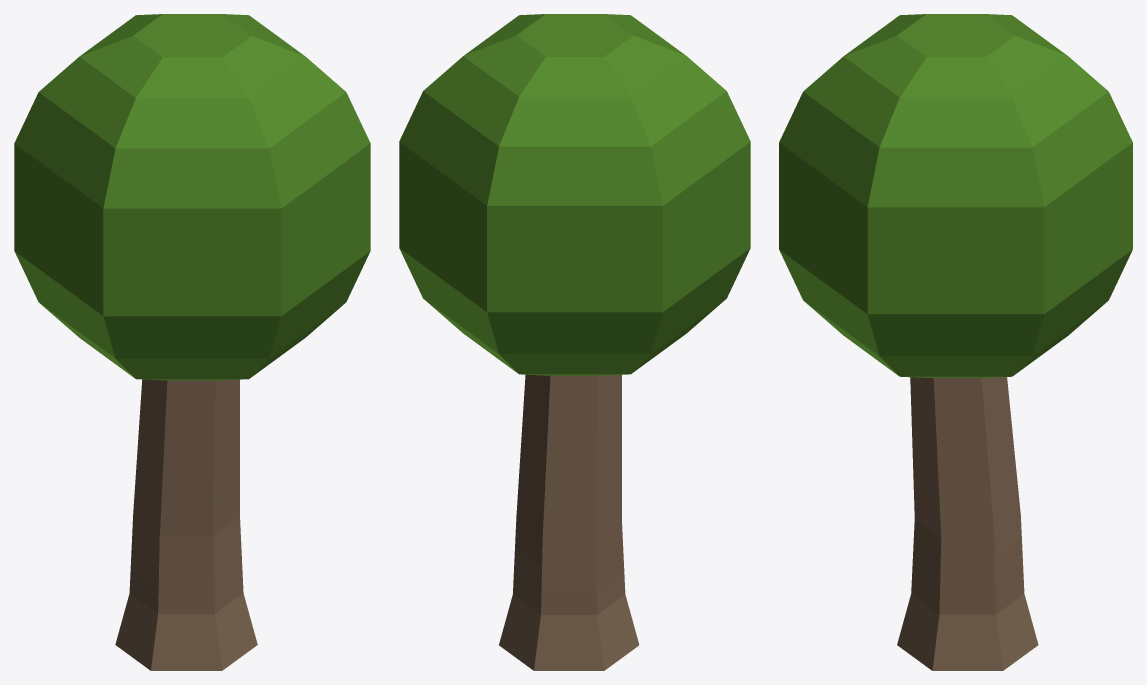
Rendered from Tree1.fbx.
The picture shows the model from 3 angles, left to right: view 1: azimuth 30°, elevation 25°; view 2: azimuth 150°, elevation 25°; view 3: azimuth 270°, elevation 25°; orthographic projection.
Parts seen in each view (by area): view 1: mergedBlocks; view 2: mergedBlocks; view 3: mergedBlocks.
Part boxes in pixels (<box>): mergedBlocks: <box>14,14,370,670</box>; mergedBlocks: <box>399,14,750,670</box>; mergedBlocks: <box>779,14,1132,670</box>.
Size of the model in its own units: 12.99 by 28.5 by 15.
